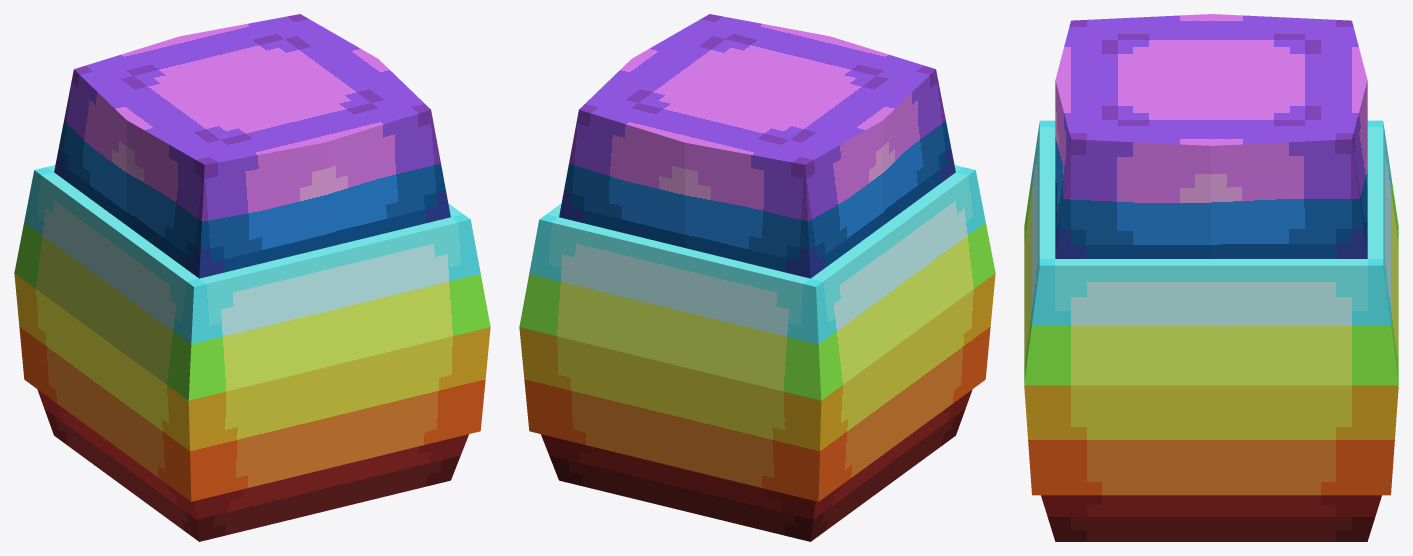
The model's file is rainbow-egg.gltf.
The picture shows the model from 3 angles, left to right: view 1: azimuth 30°, elevation 25°; view 2: azimuth 150°, elevation 25°; view 3: azimuth 270°, elevation 25°; orthographic projection. The views are drawn at different scales.
Visible parts, largest first — view 1: cube (×3); view 2: cube (×3); view 3: cube (×3).
Part boxes in pixels (box(x1,y1,x2,y2)): cube (×3): box(14, 14, 490, 541); cube (×3): box(519, 14, 995, 541); cube (×3): box(1024, 14, 1398, 541).
Size of the model in its own units: 0.75 by 0.875 by 0.75.
Materials: 1 (1 with a texture image).
